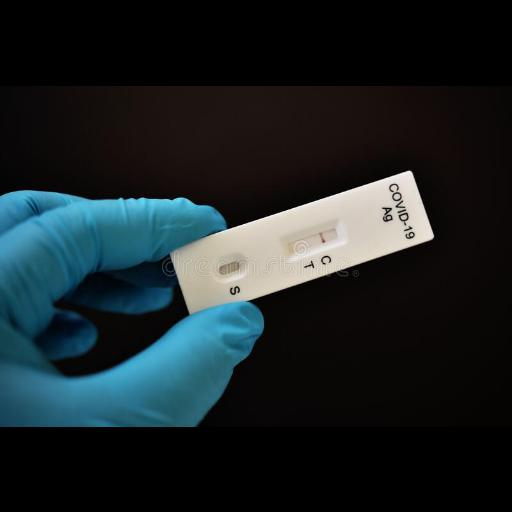Neg: (169, 167, 436, 317)
